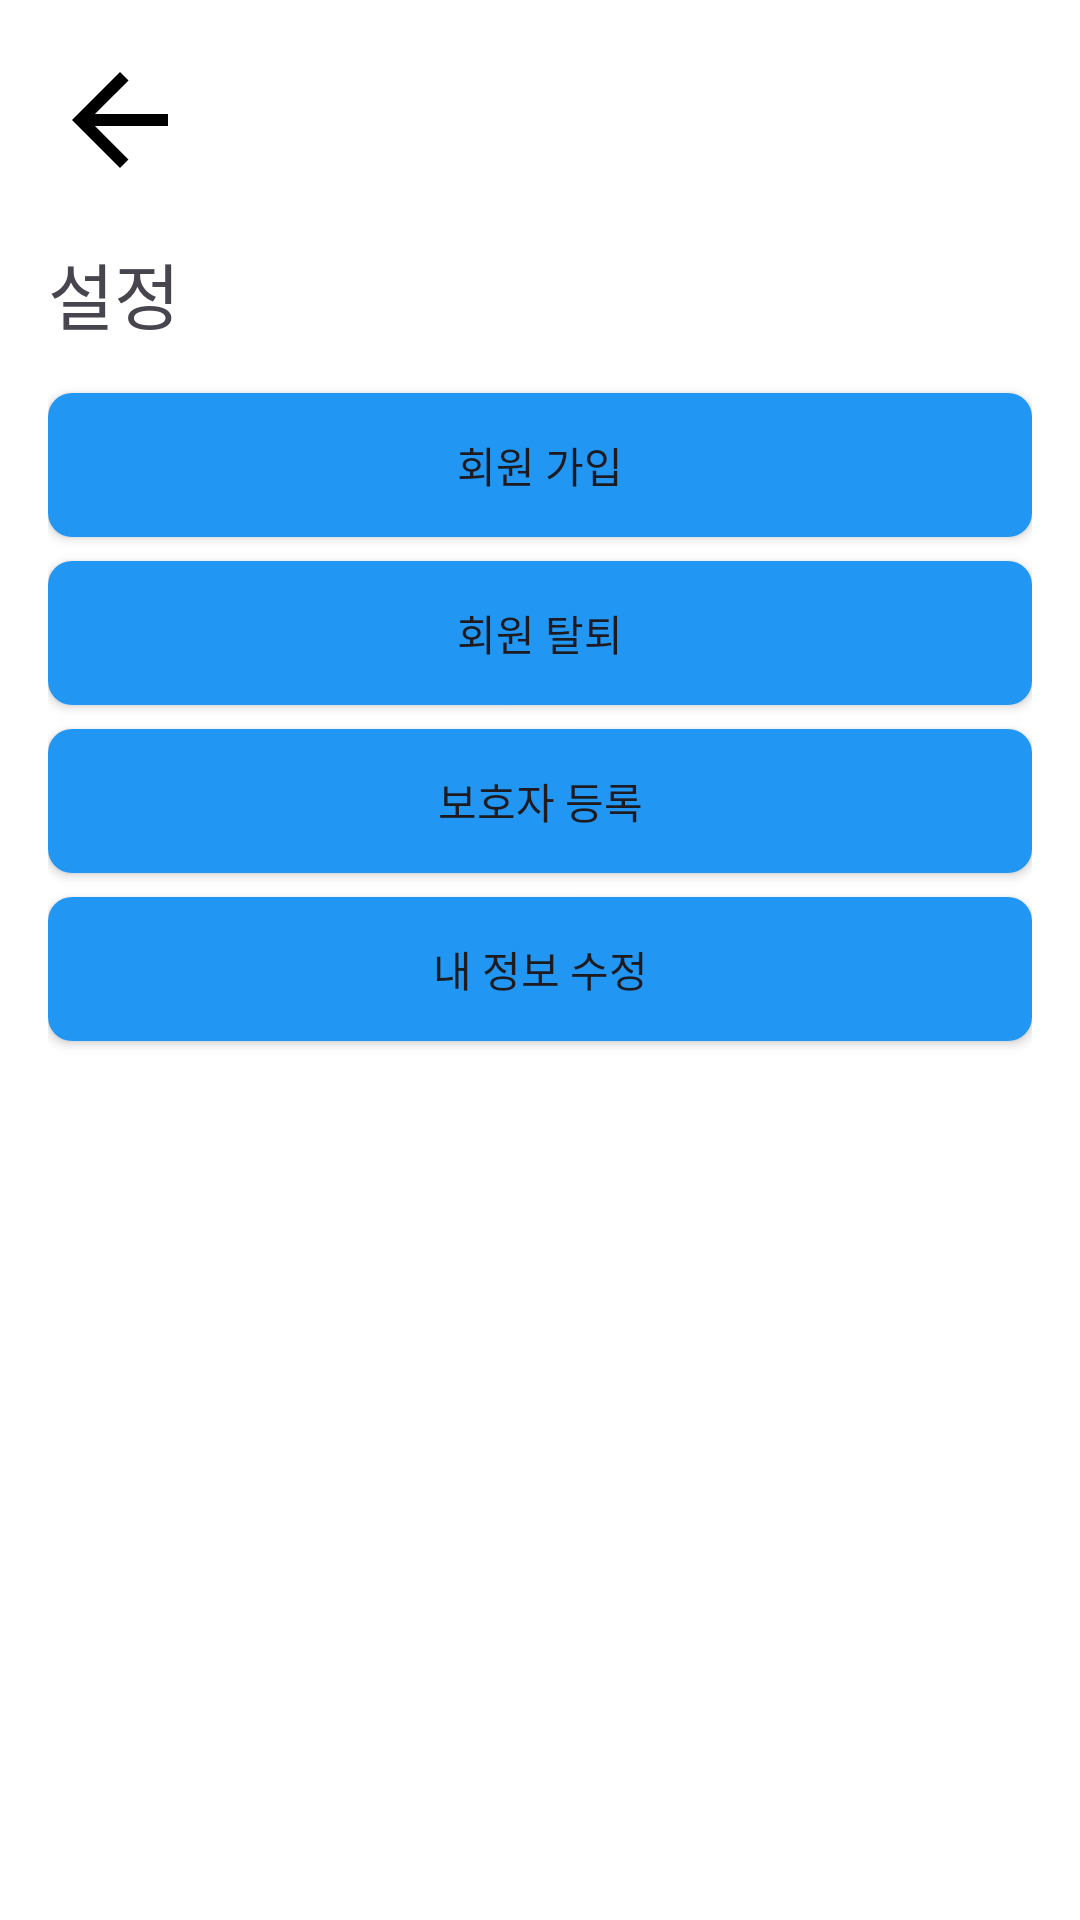

Named icons in this screenshot (1080px x 1920px) and their bounding boxes, region(x1, y1, x2, y2):
뒤로 가기 버튼: region(72, 72, 168, 168)
